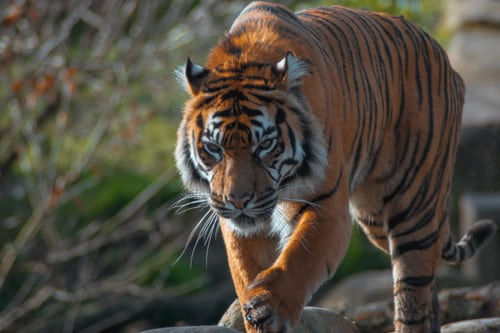tiger: (169, 51, 315, 235)
